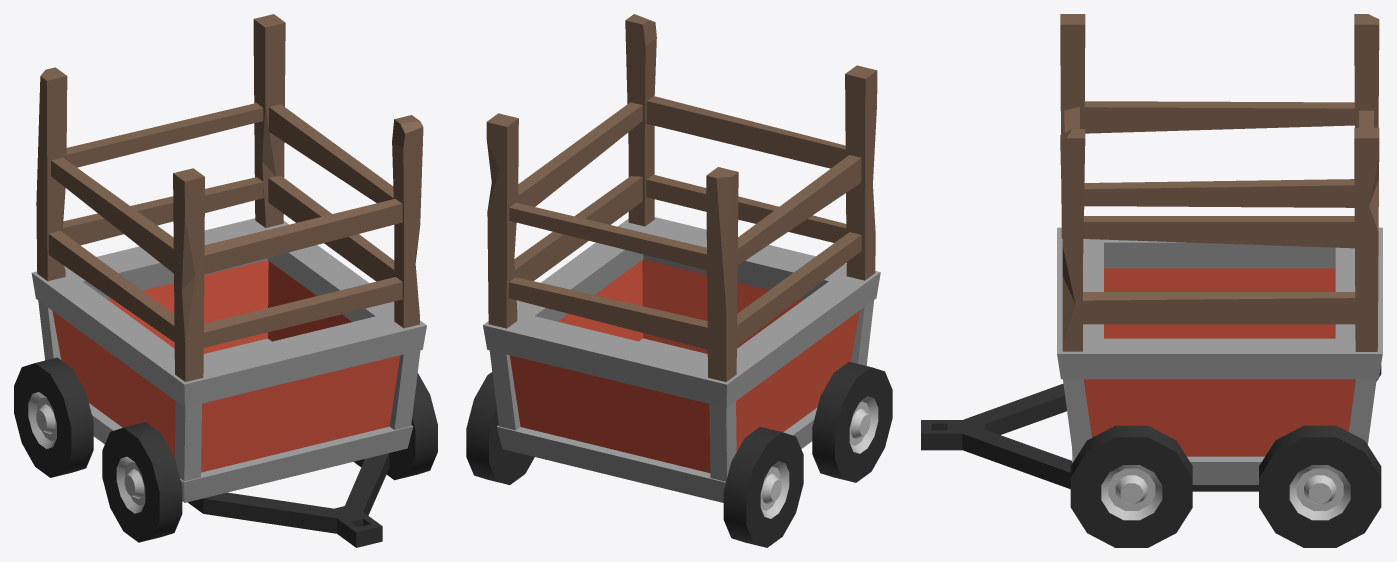
Rendered from Trailer_2.fbx.
The picture shows the model from 3 angles, left to right: view 1: azimuth 30°, elevation 25°; view 2: azimuth 150°, elevation 25°; view 3: azimuth 270°, elevation 25°; orthographic projection. The views are drawn at different scales.
Parts seen in each view (by area): view 1: Trailer_2; view 2: Trailer_2; view 3: Trailer_2.
Part boxes in pixels (x1,y1,x2,y2): Trailer_2: (14, 14, 437, 547); Trailer_2: (466, 14, 892, 547); Trailer_2: (921, 14, 1382, 547).
Size of the model in its own units: 61.69 by 78.74 by 82.42.
